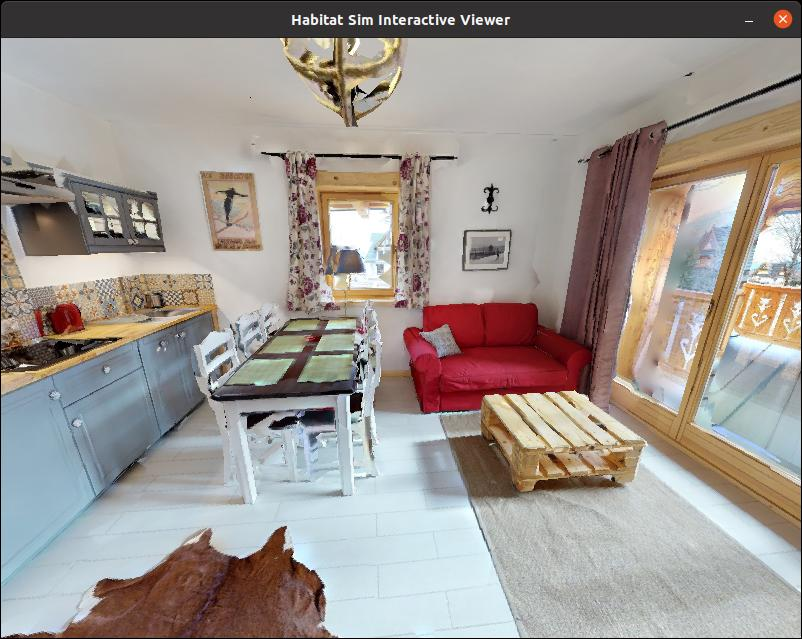sofa: (401, 291, 604, 416)
table: (215, 297, 385, 488)
